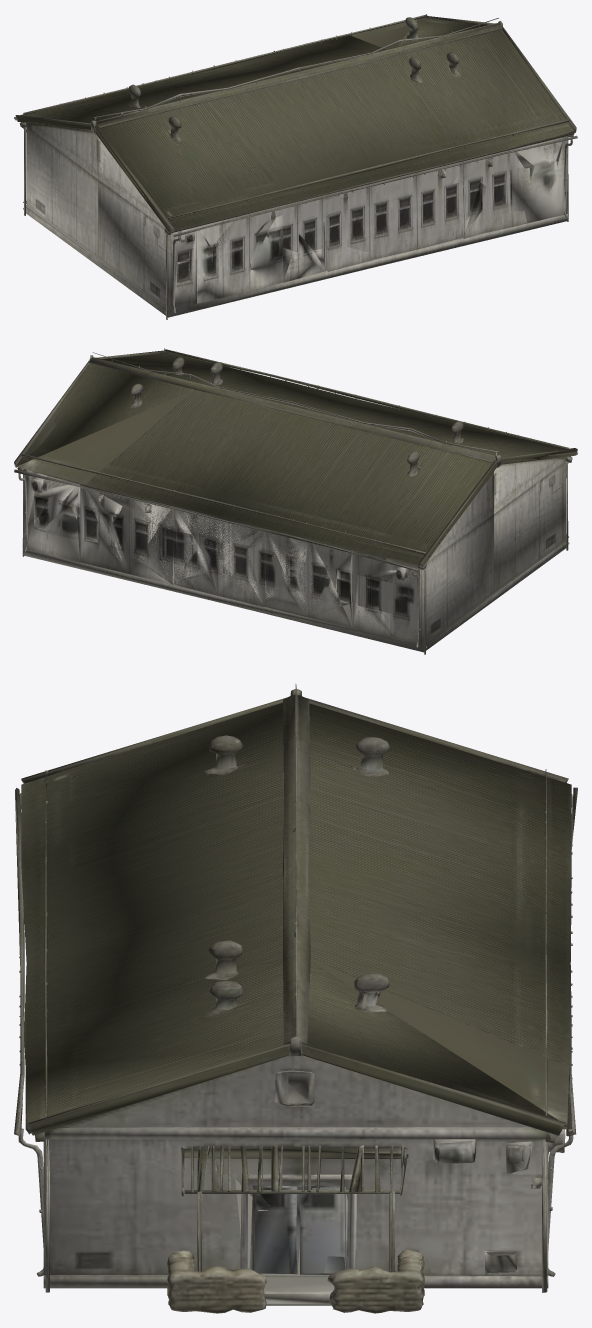
File: barracks.glb
3 views of the same model, one above another, from view 1: azimuth 30°, elevation 25°; view 2: azimuth 150°, elevation 25°; view 3: azimuth 270°, elevation 25° (orthographic). The views are drawn at different scales.
Parts seen in each view (by area): view 1: hull; view 2: hull; view 3: hull.
Boxes of the visible parts, <box> form: hull: <box>14,14,577,319</box>; hull: <box>14,348,577,654</box>; hull: <box>14,684,577,1313</box>.
Size of the model in its own units: 12.32 by 4.17 by 7.91.
Materials: 3 (3 with a texture image).
